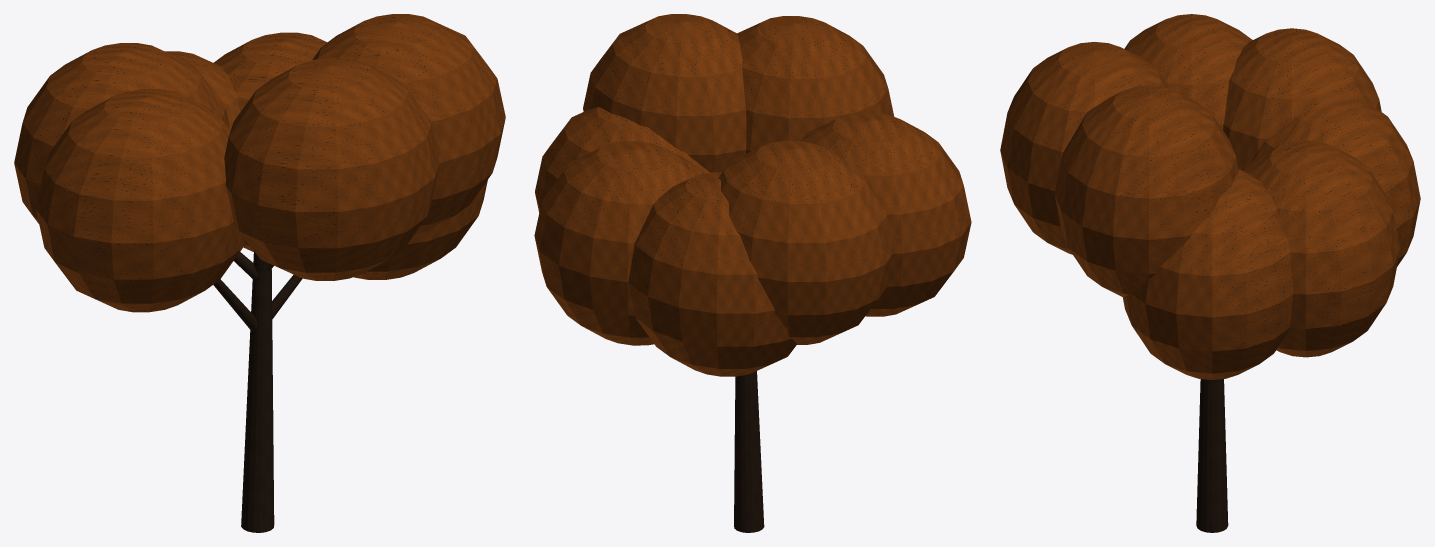
Rendered from PROP-635CD1A62687_lod0.glb.
3 renders of one model, left to right at view 1: azimuth 30°, elevation 25°; view 2: azimuth 150°, elevation 25°; view 3: azimuth 270°, elevation 25°, orthographic. The views are drawn at different scales.
Visible parts, largest first — view 1: leaf_crown.087, trunk.079, branch.051; view 2: leaf_crown.087, trunk.079; view 3: leaf_crown.087, trunk.079.
Boxes of the visible parts, x1=… form: leaf_crown.087: x1=14, y1=14, x2=505, y2=312; trunk.079: x1=241, y1=251, x2=274, y2=532; branch.051: x1=213, y1=252, x2=302, y2=332; leaf_crown.087: x1=534, y1=14, x2=971, y2=376; trunk.079: x1=734, y1=371, x2=764, y2=532; leaf_crown.087: x1=1000, y1=14, x2=1420, y2=379; trunk.079: x1=1196, y1=379, x2=1228, y2=532.
Size of the model in its own units: 7.35 by 7.96 by 6.32.
Materials: 2 (2 with a texture image).
